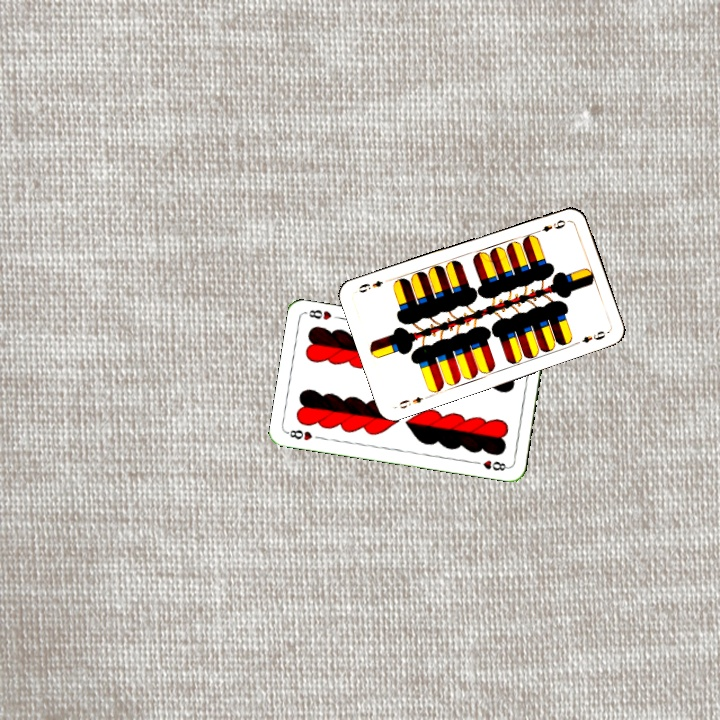E9: (531, 216, 568, 236), (395, 392, 432, 411)
H8: (283, 425, 315, 443)
